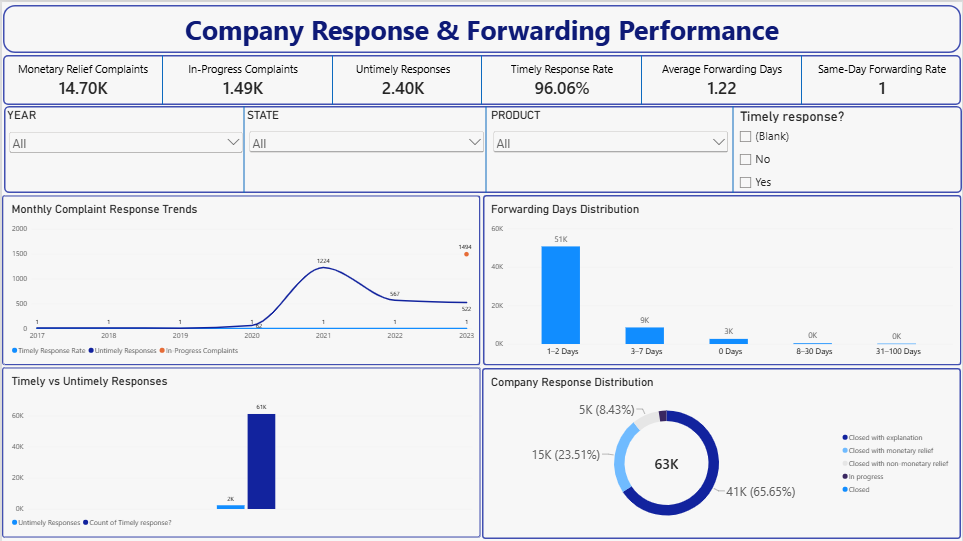

What the dashboard file says about the page in this screenshot:
{"tool":"powerbi","page":{"name":"Page 2","canvas":[1920,1080],"ordinal":1},"visuals":[{"type":"shape","box":[0,730,958,342],"z":0},{"type":"shape","box":[960,732,958,342],"z":1000},{"type":"shape","box":[962,386,957,341],"z":2000},{"type":"shape","box":[0,386,957,341],"z":3000},{"type":"shape","box":[4,208,1916,174],"z":4000},{"type":"shape","box":[2,106,1916,100],"z":5000},{"type":"cardVisual","fields":{"Data":["Consumer Complaints.Timely Response Rate"]},"box":[960.8,106,320,100],"z":6000},{"type":"cardVisual","fields":{"Data":["Consumer Complaints.Untimely Responses"]},"box":[641.2,106,320,100],"z":7000},{"type":"cardVisual","fields":{"Data":["Consumer Complaints.In-Progress Complaints"]},"box":[321.6,106,320,100],"z":8000},{"type":"cardVisual","fields":{"Data":["Consumer Complaints.Monetary Relief Complaints"]},"box":[2,106,320,100],"z":9000},{"type":"cardVisual","fields":{"Data":["Consumer Complaints.Same-Day Forwarding Rate"]},"box":[1600,106,320,100],"z":10000},{"type":"cardVisual","fields":{"Data":["Consumer Complaints.Average Forwarding Days"]},"box":[1280.4,106,320,100],"z":11000},{"type":"donutChart","title":"Company Response Distribution","fields":{"Category":["Consumer Complaints.Company response to consumer"],"Y":["Consumer Complaints.Total Complaints"]},"box":[962,732,956,340],"z":12000},{"type":"clusteredColumnChart","title":"Timely vs Untimely Responses","fields":{"Y":["Consumer Complaints.Untimely Responses","CountNonNull(Consumer Complaints.Timely response?)"]},"box":[2,730,956,342],"z":13000},{"type":"lineChart","title":"Monthly Complaint Response Trends","fields":{"Category":["Calendar.Year"],"Y":["Consumer Complaints.Timely Response Rate","Consumer Complaints.Untimely Responses","Consumer Complaints.In-Progress Complaints"]},"box":[2,386,960,342],"z":14000},{"type":"clusteredColumnChart","title":"Forwarding Days Distribution","fields":{"Category":["Calendar.Forwarding Days Group"],"Y":["Consumer Complaints.Total Complaints"]},"box":[962,386,956,344],"z":15000},{"type":"slicer","title":"YEAR","fields":{"Values":["Calendar.Year"]},"box":[10,212,476,152],"z":16000},{"type":"slicer","title":"PRODUCT","fields":{"Values":["Consumer Complaints.Product"]},"box":[978.7,212,479,150],"z":17000},{"type":"slicer","title":"STATE","fields":{"Values":["Consumer Complaints.State"]},"box":[489.3,212,479,150],"z":18000},{"type":"slicer","fields":{"Values":["Consumer Complaints.Timely response?"]},"box":[1468,212,450,170],"z":19000},{"type":"shape","box":[2,6,1916,96],"z":20000},{"type":"shape","box":[288,106,66,100],"z":21000},{"type":"shape","box":[628,106,66,100],"z":22000},{"type":"shape","box":[926,106,66,100],"z":23000},{"type":"shape","box":[1246,106,66,100],"z":24000},{"type":"shape","box":[1566,106,66,100],"z":25000},{"type":"shape","box":[446,208,76,174],"z":26000},{"type":"shape","box":[1424,208,76,174],"z":27000},{"type":"shape","box":[930,208,76,174],"z":28000}]}

Visuals, with their boxes in screenshot pixels (x1, y1, x2, y2), scaled from the page's 1920x1080 canvas onto the 963x541 screenshot:
shape: {"x1": 0, "y1": 366, "x2": 480, "y2": 537}
shape: {"x1": 482, "y1": 367, "x2": 962, "y2": 538}
shape: {"x1": 483, "y1": 193, "x2": 962, "y2": 364}
shape: {"x1": 0, "y1": 193, "x2": 480, "y2": 364}
shape: {"x1": 2, "y1": 104, "x2": 962, "y2": 191}
shape: {"x1": 1, "y1": 53, "x2": 962, "y2": 103}
cardVisual - Consumer Complaints.Timely Response Rate: {"x1": 482, "y1": 53, "x2": 642, "y2": 103}
cardVisual - Consumer Complaints.Untimely Responses: {"x1": 322, "y1": 53, "x2": 482, "y2": 103}
cardVisual - Consumer Complaints.In-Progress Complaints: {"x1": 161, "y1": 53, "x2": 322, "y2": 103}
cardVisual - Consumer Complaints.Monetary Relief Complaints: {"x1": 1, "y1": 53, "x2": 162, "y2": 103}
cardVisual - Consumer Complaints.Same-Day Forwarding Rate: {"x1": 802, "y1": 53, "x2": 962, "y2": 103}
cardVisual - Consumer Complaints.Average Forwarding Days: {"x1": 642, "y1": 53, "x2": 803, "y2": 103}
"Company Response Distribution" donutChart: {"x1": 483, "y1": 367, "x2": 962, "y2": 537}
"Timely vs Untimely Responses" clusteredColumnChart: {"x1": 1, "y1": 366, "x2": 480, "y2": 537}
"Monthly Complaint Response Trends" lineChart: {"x1": 1, "y1": 193, "x2": 483, "y2": 365}
"Forwarding Days Distribution" clusteredColumnChart: {"x1": 483, "y1": 193, "x2": 962, "y2": 366}
"YEAR" slicer: {"x1": 5, "y1": 106, "x2": 244, "y2": 182}
"PRODUCT" slicer: {"x1": 491, "y1": 106, "x2": 731, "y2": 181}
"STATE" slicer: {"x1": 245, "y1": 106, "x2": 486, "y2": 181}
slicer - Consumer Complaints.Timely response?: {"x1": 736, "y1": 106, "x2": 962, "y2": 191}
shape: {"x1": 1, "y1": 3, "x2": 962, "y2": 51}
shape: {"x1": 144, "y1": 53, "x2": 178, "y2": 103}
shape: {"x1": 315, "y1": 53, "x2": 348, "y2": 103}
shape: {"x1": 464, "y1": 53, "x2": 498, "y2": 103}
shape: {"x1": 625, "y1": 53, "x2": 658, "y2": 103}
shape: {"x1": 785, "y1": 53, "x2": 819, "y2": 103}
shape: {"x1": 224, "y1": 104, "x2": 262, "y2": 191}
shape: {"x1": 714, "y1": 104, "x2": 752, "y2": 191}
shape: {"x1": 466, "y1": 104, "x2": 505, "y2": 191}
